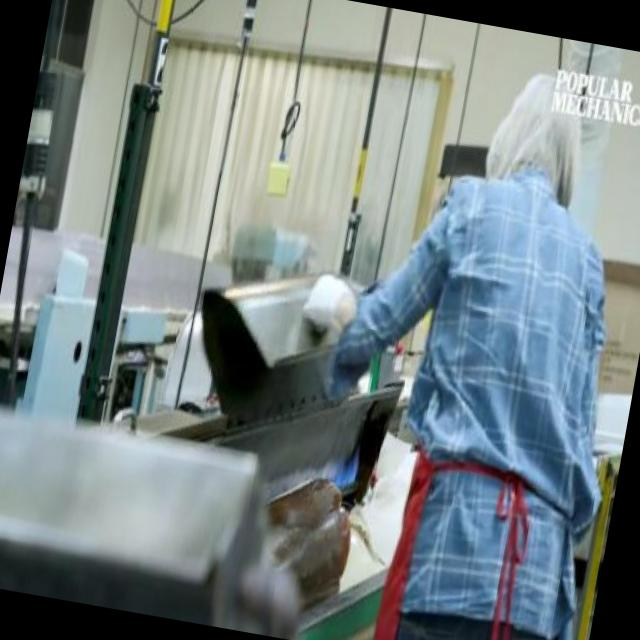hairnet: (487, 64, 590, 192)
